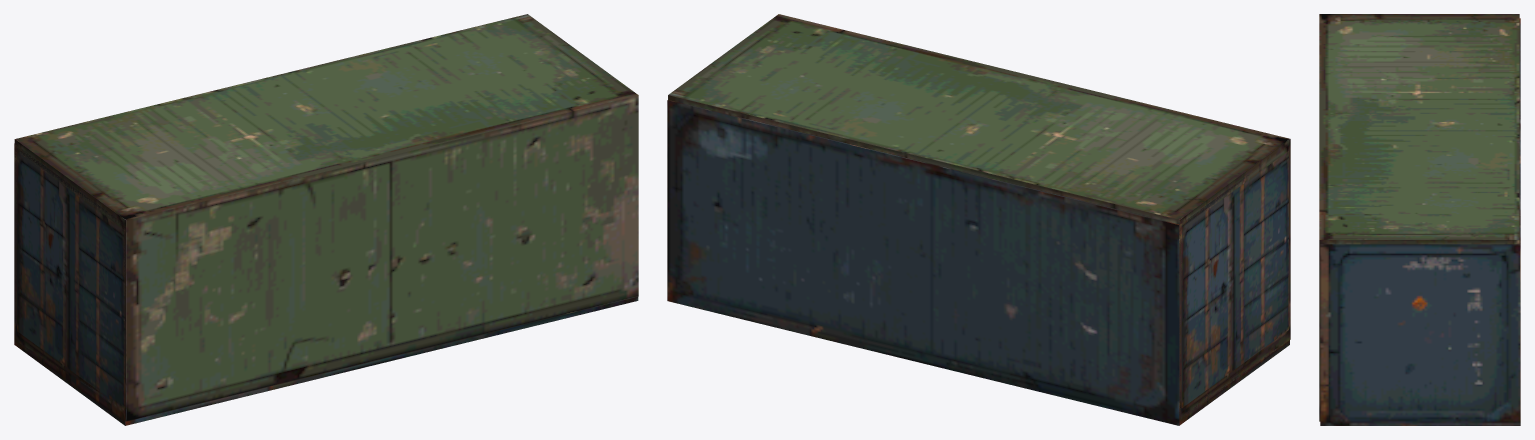
File: Cargo1.fbx
3 renders of one model, left to right at view 1: azimuth 30°, elevation 25°; view 2: azimuth 150°, elevation 25°; view 3: azimuth 270°, elevation 25°, orthographic. The views are drawn at different scales.
Parts seen in each view (by area): view 1: Cargo_1_open, Cargo_1_close; view 2: Cargo_1_close, Cargo_1_open; view 3: Cargo_1_open, Cargo_1_close.
Boxes of the visible parts, x1,y1,x2,y2 form: Cargo_1_open: (14, 14, 638, 421); Cargo_1_close: (14, 143, 638, 425); Cargo_1_close: (667, 100, 1289, 425); Cargo_1_open: (668, 14, 1290, 419); Cargo_1_open: (1319, 14, 1519, 421); Cargo_1_close: (1320, 18, 1520, 425).
Bounding box in the file's own units: 800 × 307 × 302.
